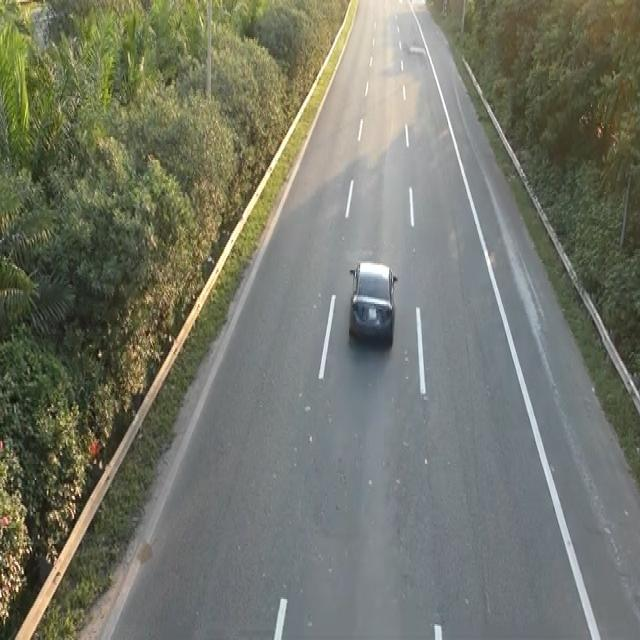bus: (346, 256, 398, 347)
